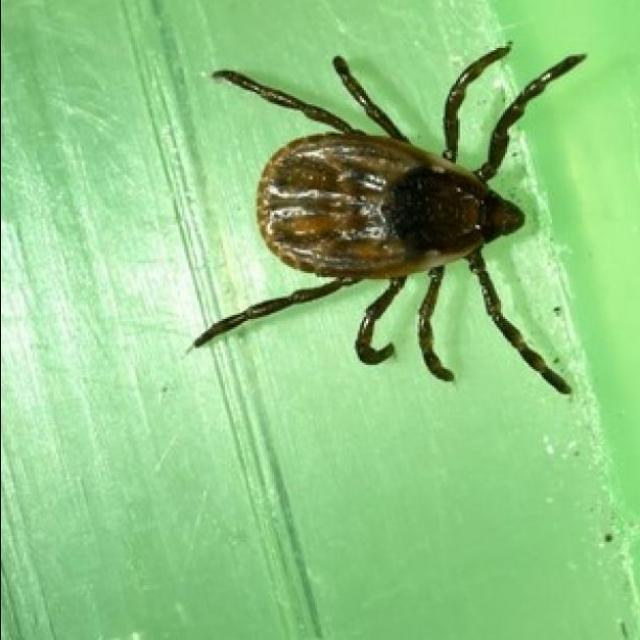Rhipicephalus Sanguineus-F: (194, 42, 585, 396)
